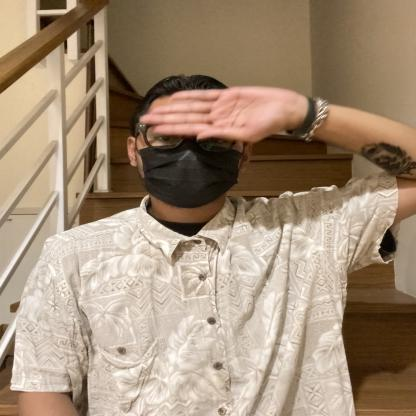Sick: (42, 70, 332, 218)
